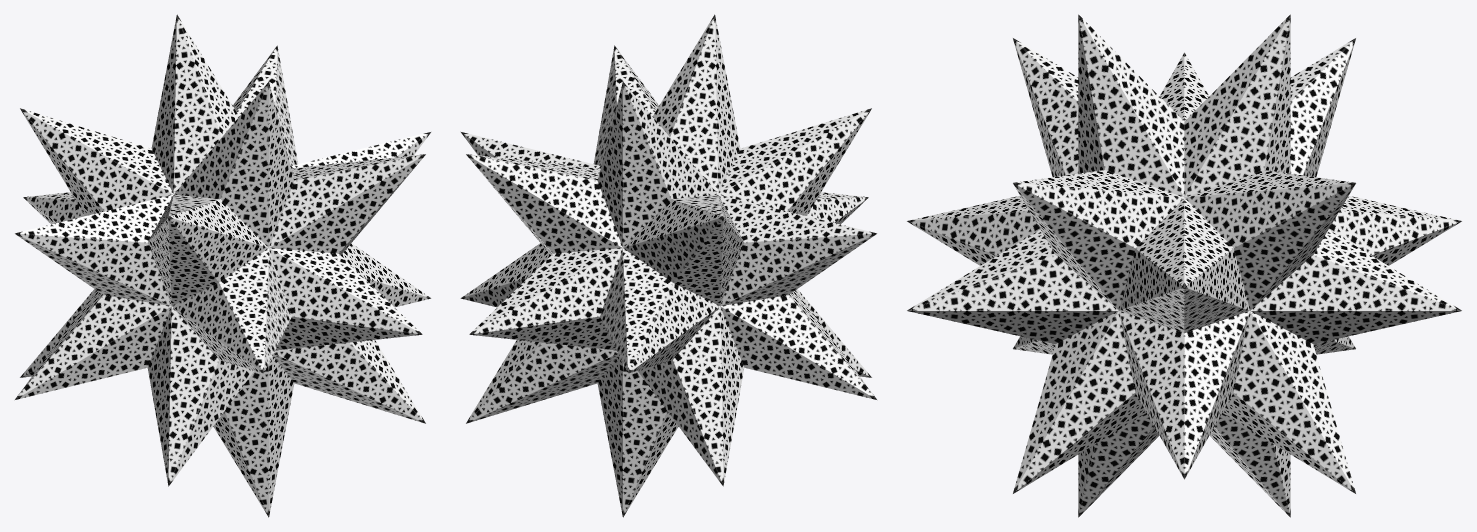
File: great-stellapentakis-dodecahedron.gltf
3 renders of one model, left to right at view 1: azimuth 30°, elevation 25°; view 2: azimuth 150°, elevation 25°; view 3: azimuth 270°, elevation 25°, orthographic. The views are drawn at different scales.
Visible parts, largest first — view 1: Great Stellapentakisdodecahedron (Dual of 5/2.6.6), WD95, p7; view 2: Great Stellapentakisdodecahedron (Dual of 5/2.6.6), WD95, p7; view 3: Great Stellapentakisdodecahedron (Dual of 5/2.6.6), WD95, p7.
Part boxes in pixels (bbox=[...]): Great Stellapentakisdodecahedron (Dual of 5/2.6.6), WD95, p7: bbox=[14, 14, 431, 517]; Great Stellapentakisdodecahedron (Dual of 5/2.6.6), WD95, p7: bbox=[460, 14, 877, 517]; Great Stellapentakisdodecahedron (Dual of 5/2.6.6), WD95, p7: bbox=[907, 14, 1461, 517].
Size of the model in its own units: 63.86 by 63.86 by 63.86.
1 material, 1 textured.
